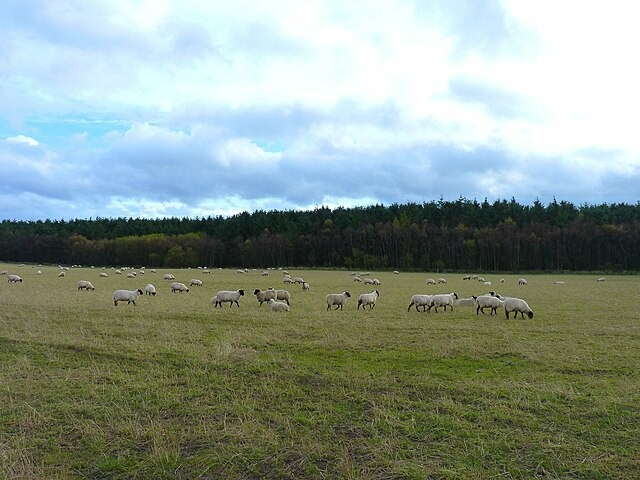grazing: (505, 296, 532, 320), (169, 282, 188, 294), (78, 279, 93, 291), (9, 275, 25, 283), (146, 284, 155, 296)
standing: (214, 287, 246, 308), (427, 291, 457, 313), (112, 288, 144, 305), (359, 289, 380, 310), (327, 292, 351, 310)
